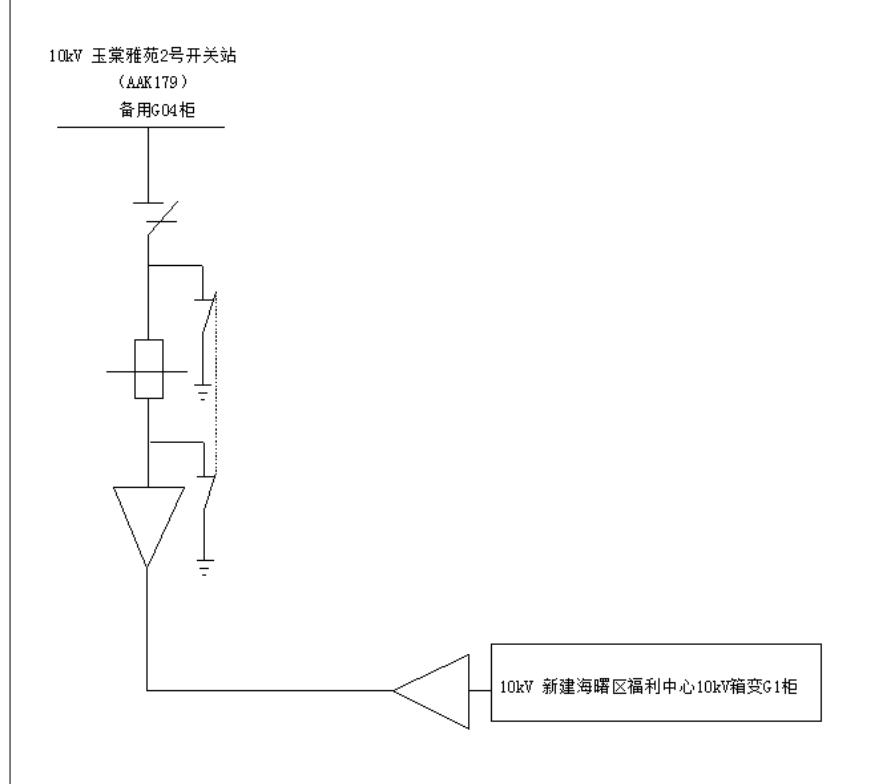t15: (286, 630, 483, 747), (98, 470, 186, 646)
t28: (126, 178, 192, 246), (180, 282, 228, 351), (188, 458, 221, 521)
t29: (479, 636, 835, 738)
t7: (105, 329, 188, 415)
t8: (184, 372, 217, 413), (189, 543, 216, 587)
